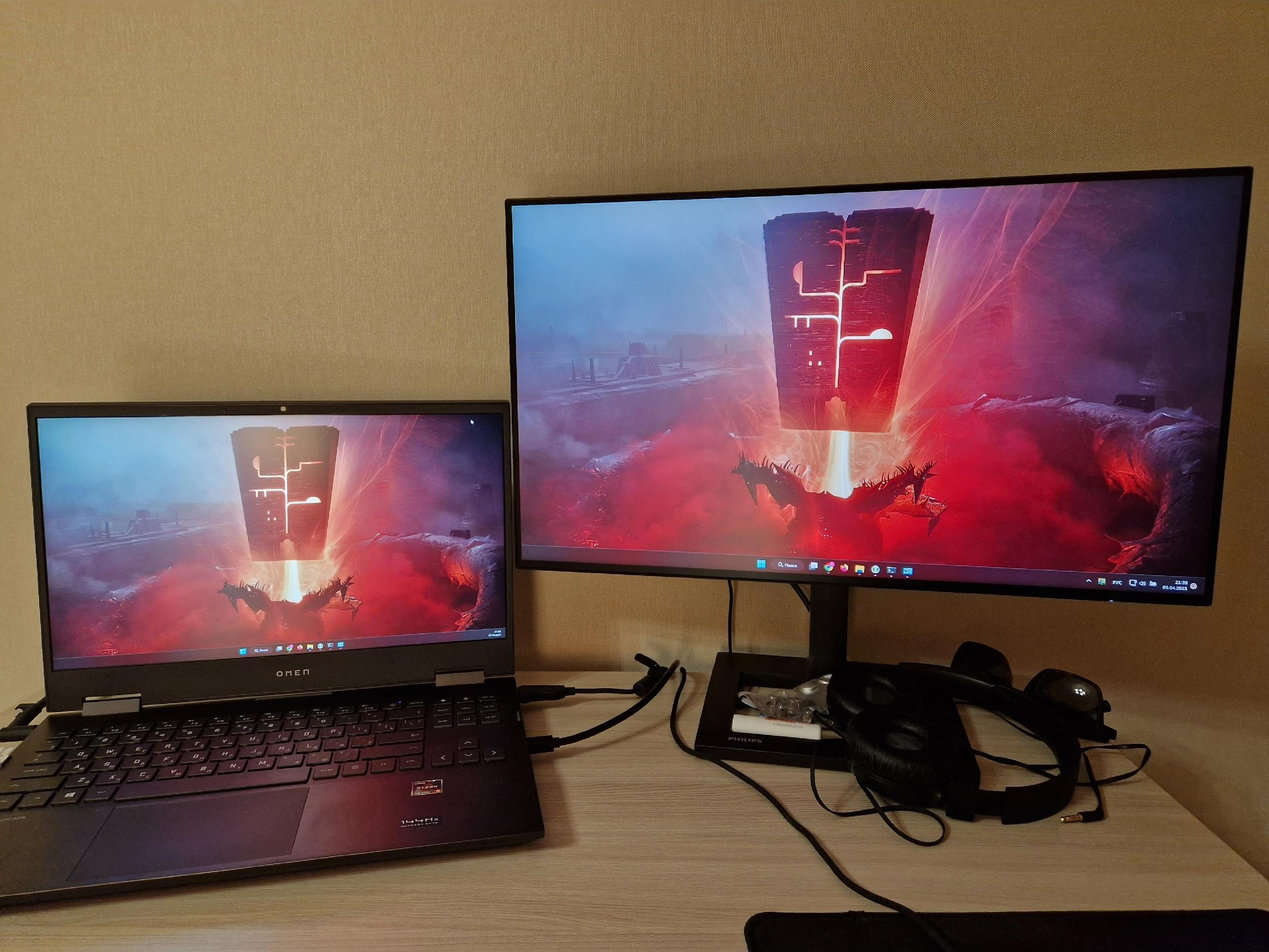monitor: (494, 159, 1257, 762), (15, 395, 534, 701)
